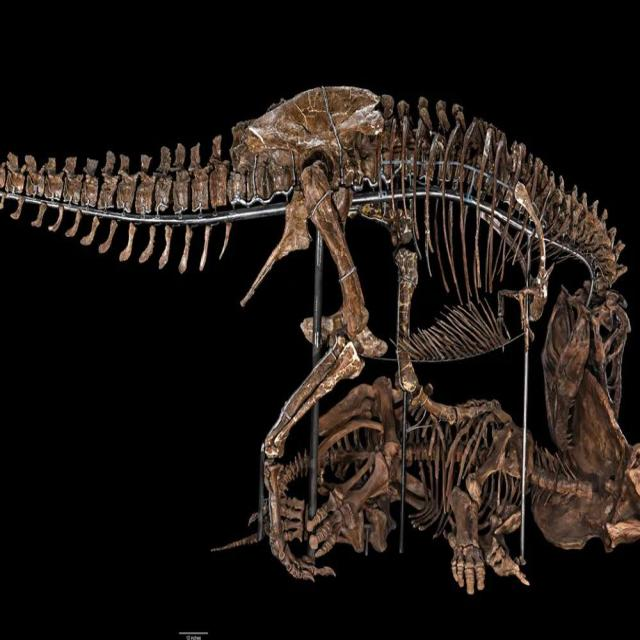Without deffect: (3, 35, 640, 613)
